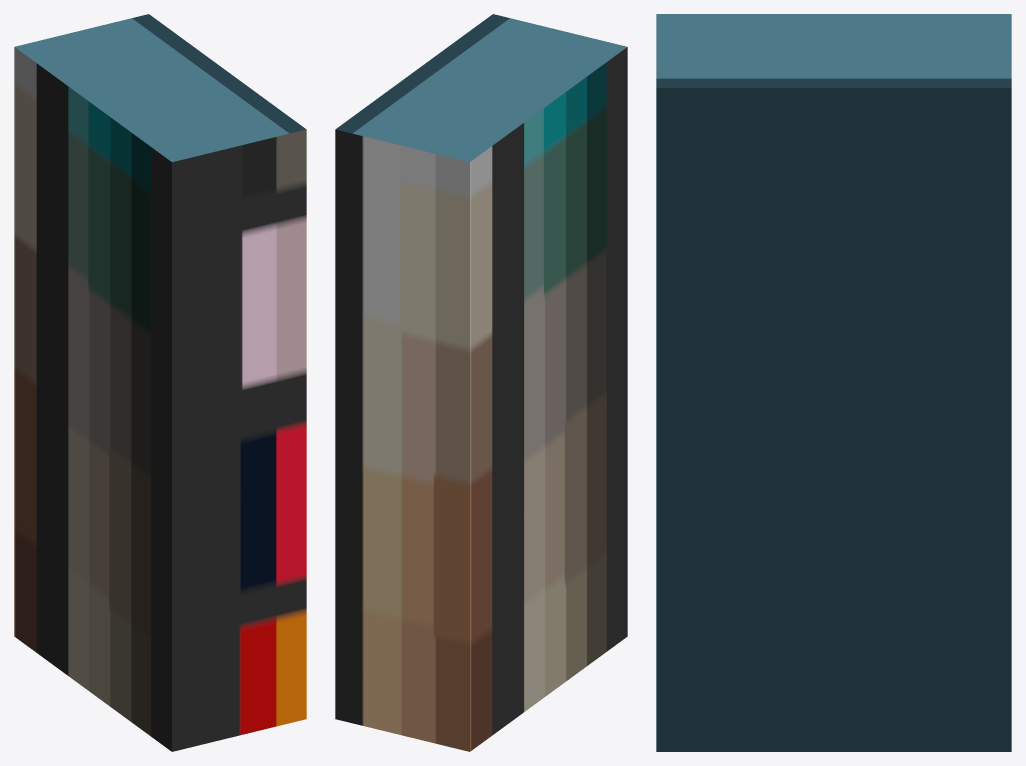
The model's file is tile_7_1_4.gltf.
3 views of the same model, side by side, from view 1: azimuth 30°, elevation 25°; view 2: azimuth 150°, elevation 25°; view 3: azimuth 270°, elevation 25° (orthographic). The views are drawn at different scales.
Visible parts, largest first — view 1: arena.sides.high.045; view 2: arena.sides.high.045; view 3: arena.sides.high.045.
Boxes of the visible parts, x1,y1,x2,y2 form: arena.sides.high.045: [14, 14, 306, 751]; arena.sides.high.045: [335, 14, 627, 751]; arena.sides.high.045: [656, 14, 1011, 751].
Size of the model in its own units: 3.94 by 16.5 by 8.
1 material, 1 textured.
